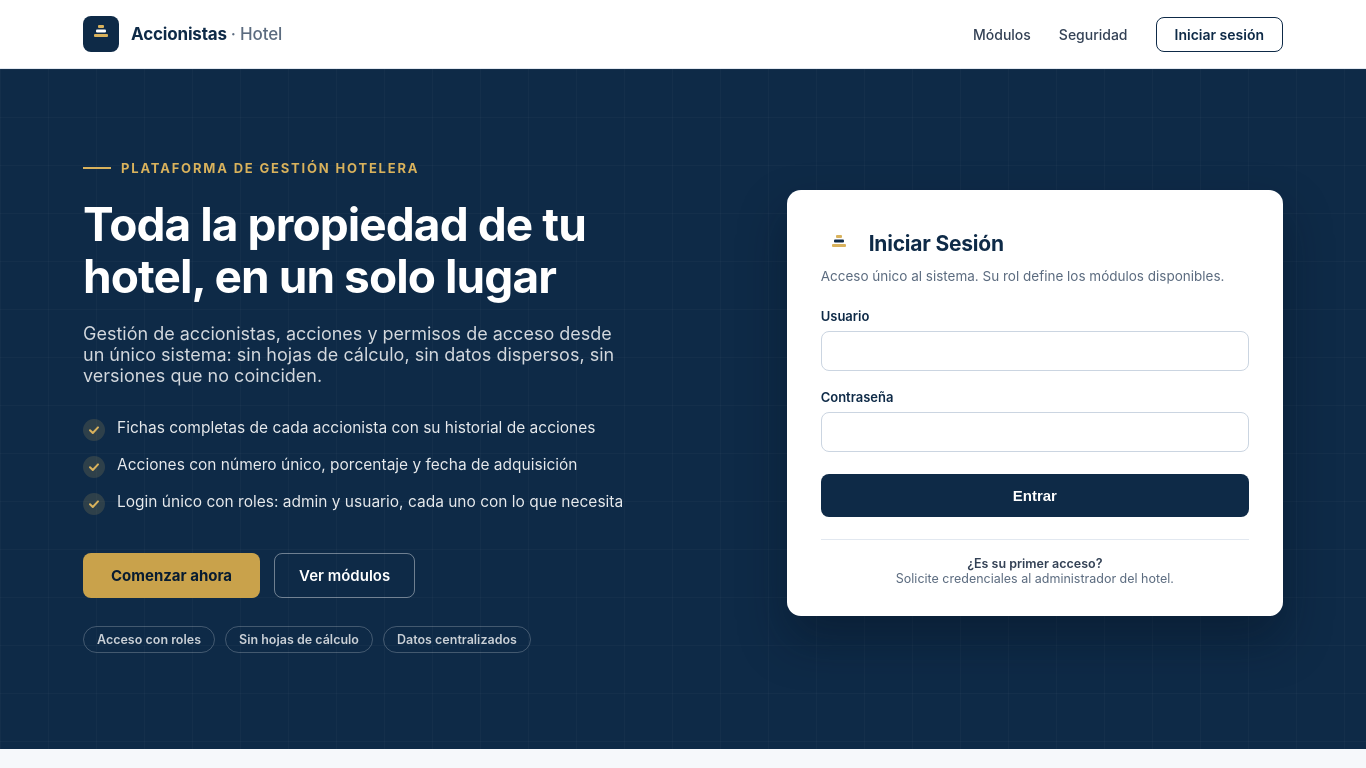
Test: App - puerta de entrada central › ingresa con las credenciales y muestra la navegación de admin
Type "admin" into the field labelled "Usuario".
click(1035, 351); type("admin")  # box [821, 331, 1249, 371]
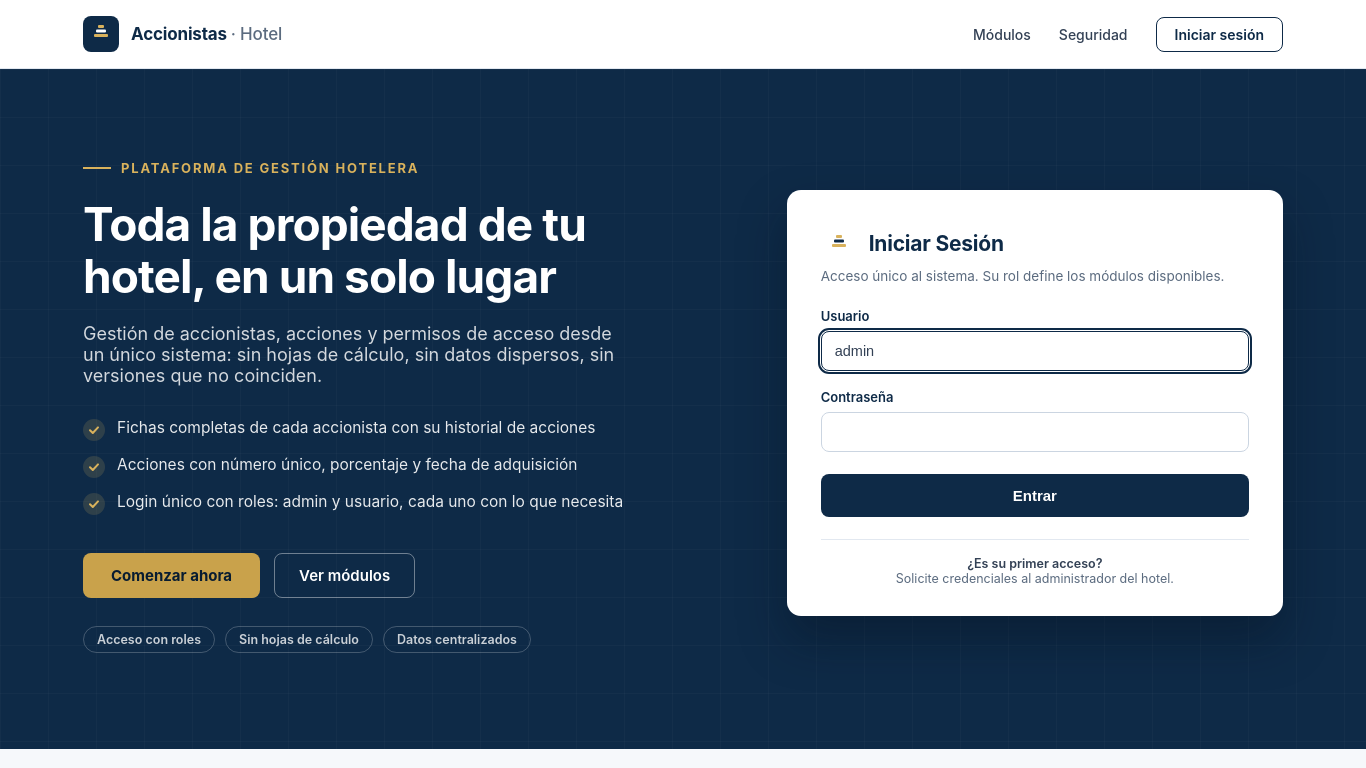
Type "admin" into the password field labelled "Contraseña".
click(1035, 432); type("admin")  # box [821, 412, 1249, 452]
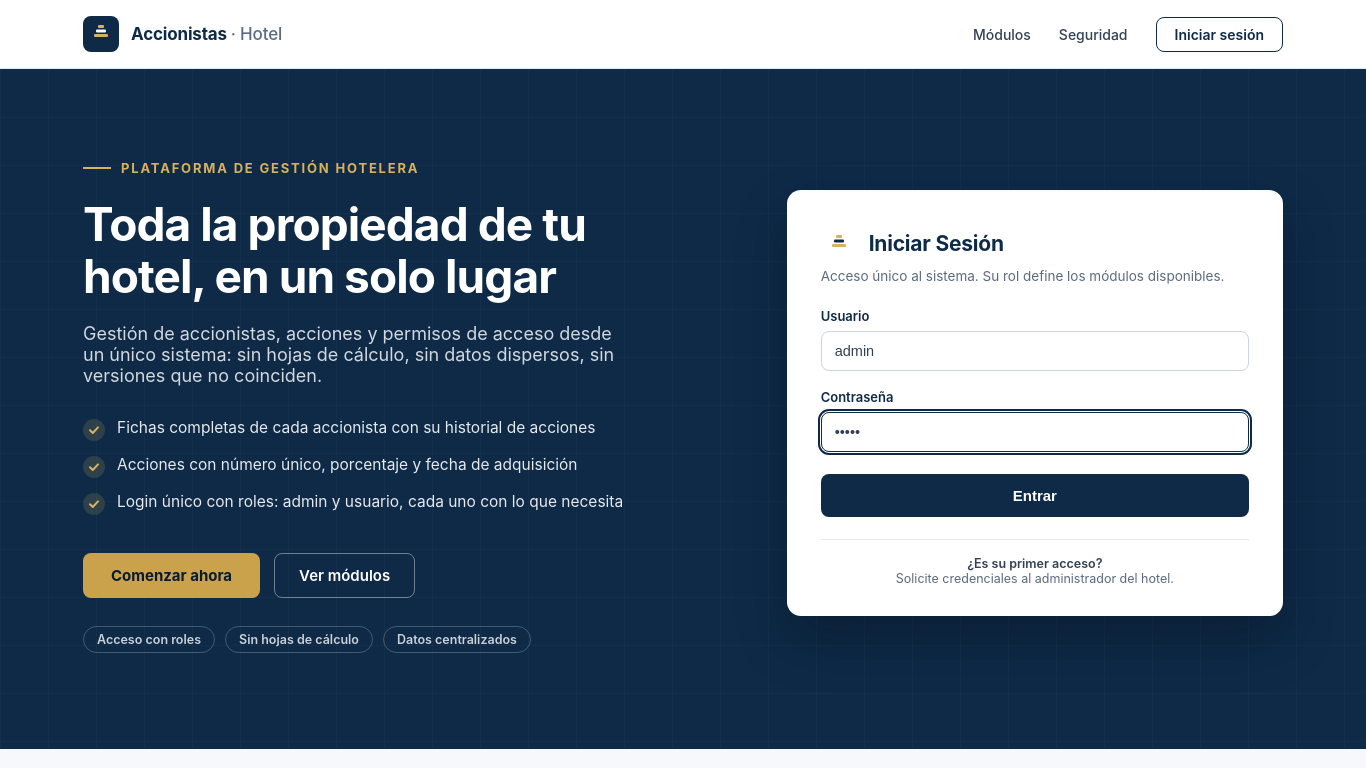
Click the button "Entrar".
click(1035, 495)  # box [821, 474, 1249, 517]
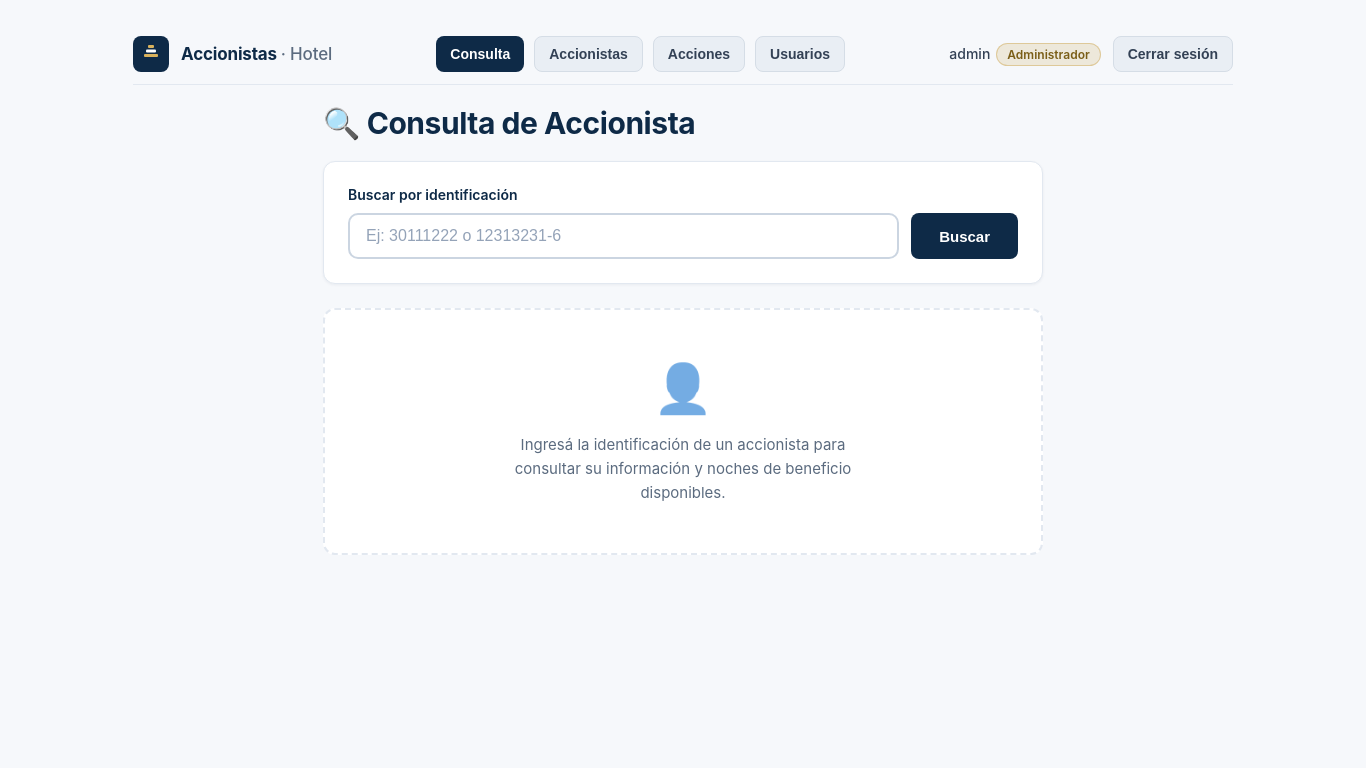
Expected: the button "Accionistas" is shown, [534, 36, 643, 72]
Expected: the button "Usuarios" is shown, [755, 36, 845, 72]
